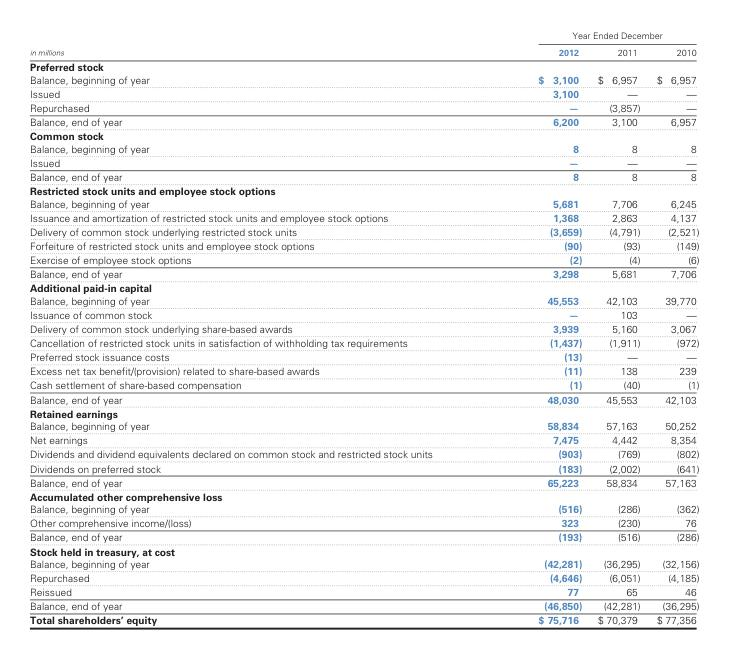table: (28, 29, 698, 626)
table column: (28, 29, 484, 626), (484, 29, 589, 626), (589, 29, 647, 626), (647, 29, 698, 626)
table column header: (28, 29, 698, 58)
table projected row header: (28, 58, 698, 73), (28, 128, 698, 142), (28, 183, 698, 197), (28, 280, 698, 294), (28, 543, 698, 557), (28, 406, 698, 419), (28, 489, 698, 502)
table row: (28, 43, 698, 58), (28, 58, 698, 73), (28, 391, 698, 406), (28, 474, 698, 489), (28, 29, 698, 43), (28, 86, 698, 100), (28, 100, 698, 114), (28, 114, 698, 128), (28, 128, 698, 142), (28, 155, 698, 169), (28, 169, 698, 183), (28, 183, 698, 197), (28, 210, 698, 224), (28, 224, 698, 238), (28, 238, 698, 252), (28, 252, 698, 266), (28, 266, 698, 280), (28, 280, 698, 294), (28, 307, 698, 321), (28, 321, 698, 335), (28, 335, 698, 349), (28, 349, 698, 363), (28, 363, 698, 377), (28, 377, 698, 391), (28, 432, 698, 446), (28, 446, 698, 460), (28, 460, 698, 474), (28, 515, 698, 529), (28, 529, 698, 543), (28, 543, 698, 557), (28, 570, 698, 584), (28, 584, 698, 598), (28, 598, 698, 612), (28, 612, 698, 626), (28, 73, 698, 86), (28, 142, 698, 155), (28, 197, 698, 210), (28, 294, 698, 307), (28, 406, 698, 419), (28, 419, 698, 432), (28, 489, 698, 502), (28, 502, 698, 515), (28, 557, 698, 570)
table spanning cell: (28, 29, 484, 58), (484, 29, 698, 43)
